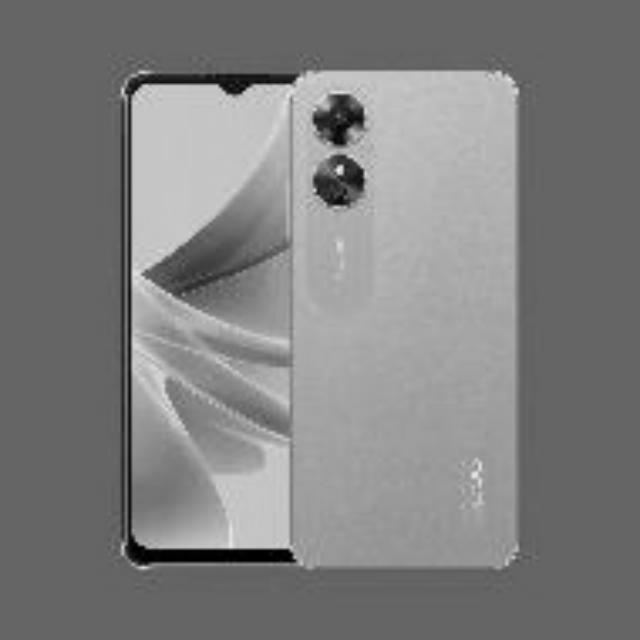fake: (120, 71, 296, 565)
